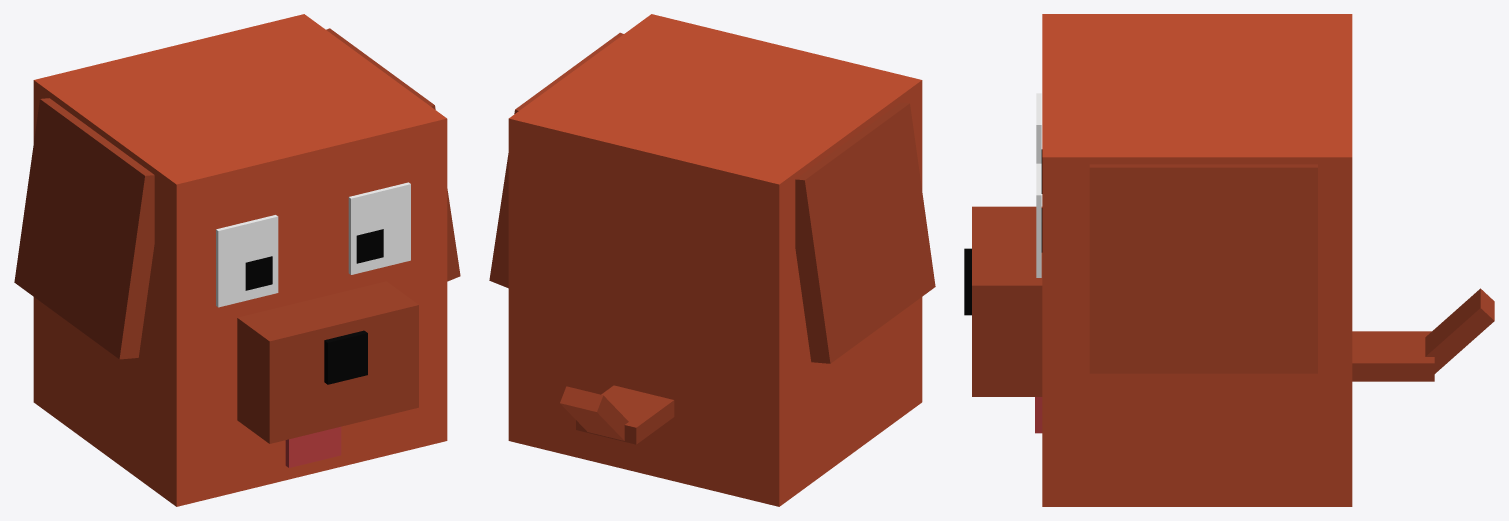
File: dog.fbx
3 renders of one model, left to right at view 1: azimuth 30°, elevation 25°; view 2: azimuth 150°, elevation 25°; view 3: azimuth 270°, elevation 25°, orthographic. The views are drawn at different scales.
Parts seen in each view (by area): view 1: 큐브, 큐브_2_2, 큐브_1, 큐브_4_2, 큐브_3, 큐브_6, 큐브_5; view 2: 큐브, 큐브_2_2, 큐브_2, 큐브_4; view 3: 큐브, 큐브_2_2, 큐브_1, 큐브_2, 큐브_4, 큐브_4_2.
Boxes of the visible parts, x1,y1,x2,y2 form: 큐브: [33, 14, 447, 506]; 큐브_2_2: [14, 28, 460, 359]; 큐브_1: [237, 281, 418, 443]; 큐브_4_2: [216, 182, 410, 307]; 큐브_3: [324, 330, 367, 384]; 큐브_6: [285, 426, 341, 467]; 큐브_5: [245, 229, 383, 290]; 큐브: [508, 14, 922, 506]; 큐브_2_2: [489, 32, 935, 363]; 큐브_2: [576, 385, 674, 444]; 큐브_4: [560, 386, 628, 440]; 큐브: [1042, 14, 1352, 506]; 큐브_2_2: [1089, 164, 1317, 373]; 큐브_1: [972, 206, 1042, 396]; 큐브_2: [1352, 331, 1434, 381]; 큐브_4: [1425, 288, 1494, 373]; 큐브_4_2: [1036, 93, 1041, 277].
Size of the model in its own units: 221 by 200 by 275.
